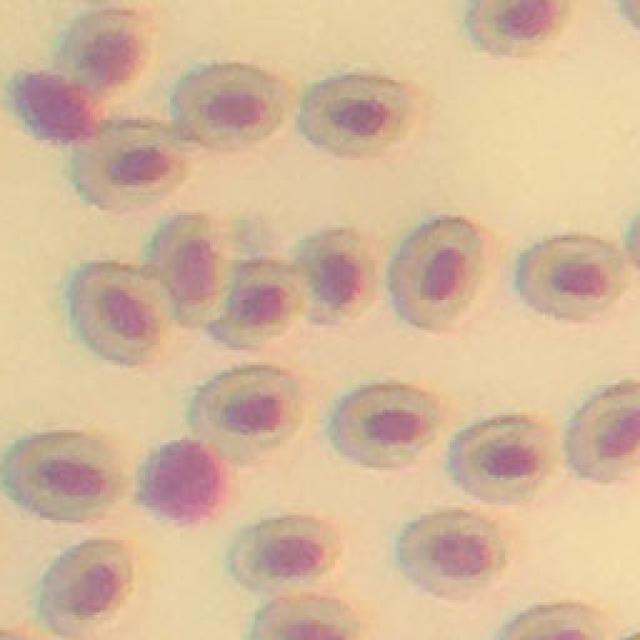RBC: (72, 262, 178, 365), (192, 368, 302, 462), (392, 218, 482, 330), (78, 120, 188, 210), (450, 415, 560, 505), (175, 62, 290, 148), (8, 432, 118, 520), (300, 75, 415, 158), (400, 512, 508, 600), (40, 542, 132, 638), (520, 237, 628, 318), (335, 385, 440, 468), (155, 213, 232, 325), (210, 260, 302, 348), (232, 518, 340, 592), (58, 8, 148, 92), (302, 230, 378, 325), (570, 382, 640, 480), (468, 0, 582, 56), (252, 598, 360, 640), (505, 605, 602, 640)
WBC: (140, 440, 225, 522), (15, 72, 100, 142)
